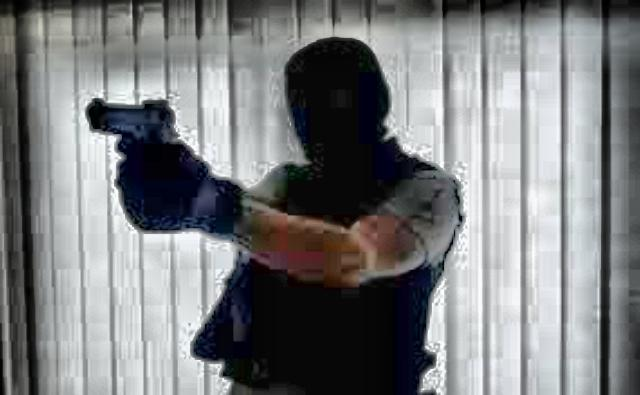pistol: (75, 94, 182, 188)
